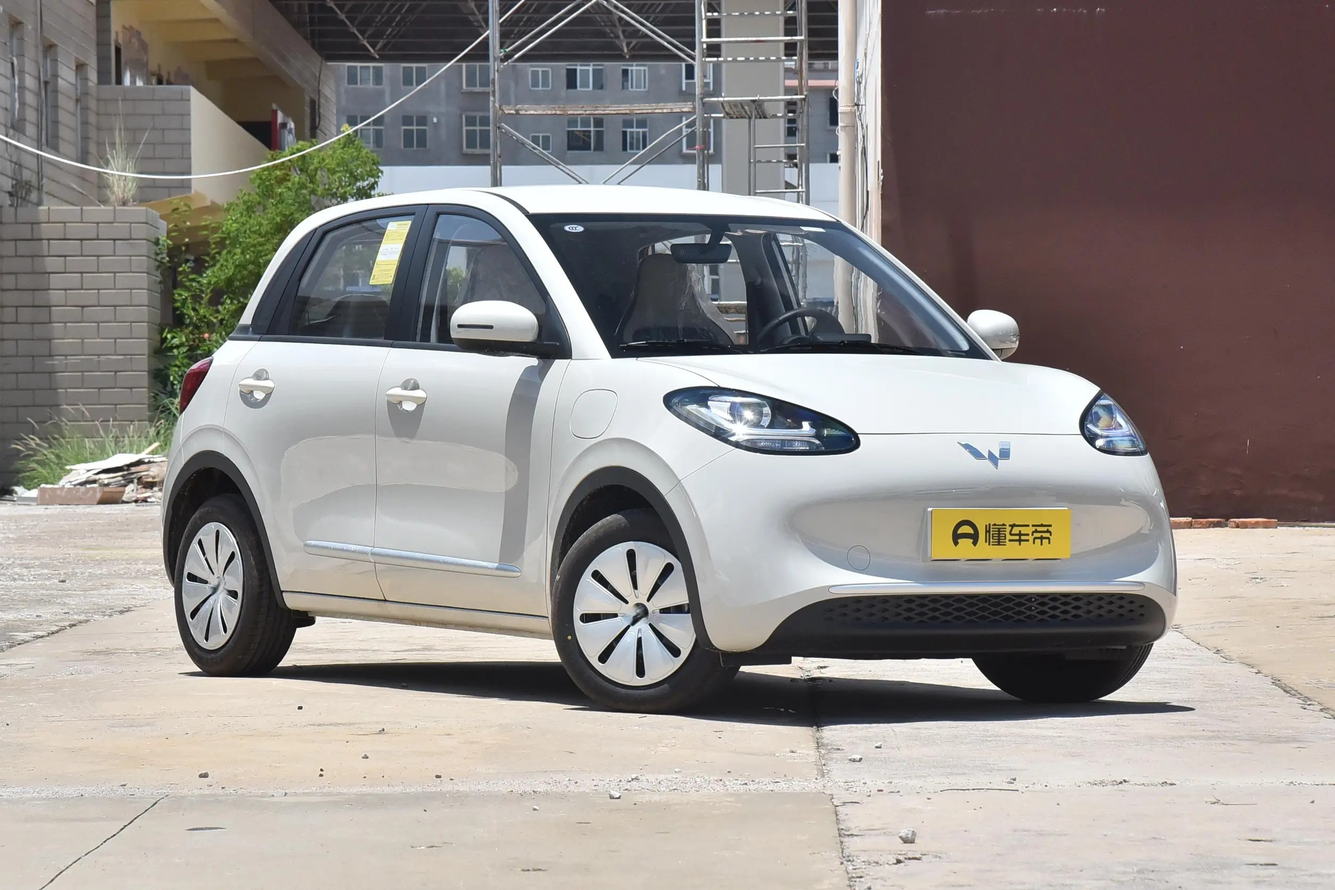SGMW: (957, 442, 1010, 468)
